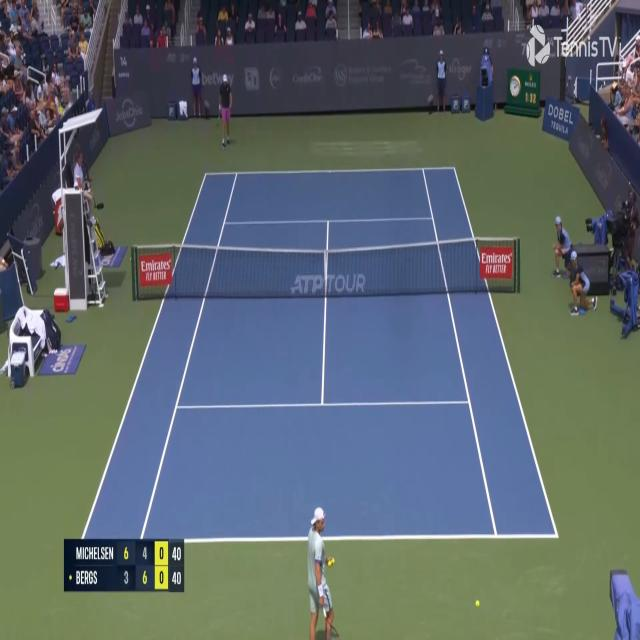tennis-player: (304, 504, 339, 639), (214, 73, 232, 150)
